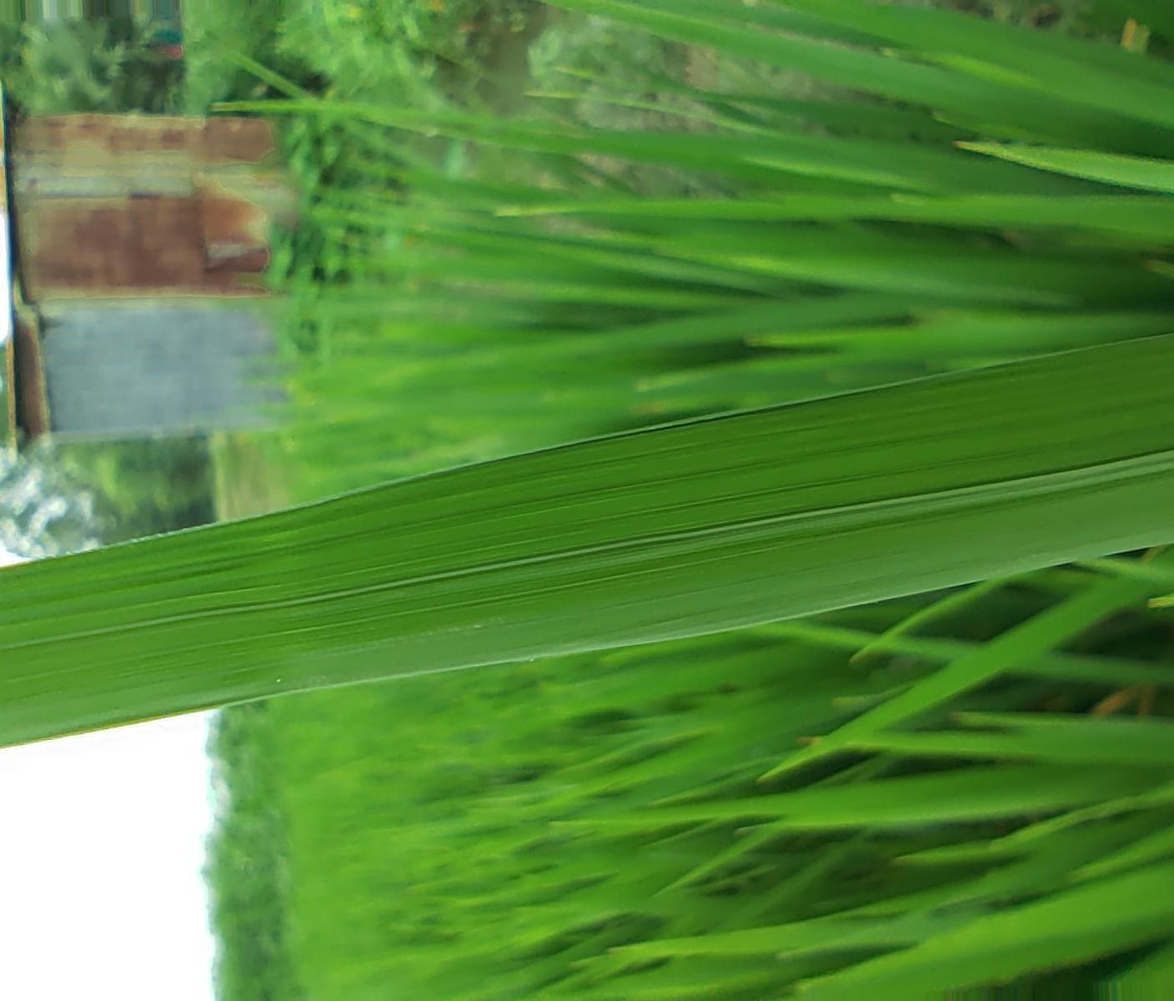Healthy: (0, 333, 1173, 746)
